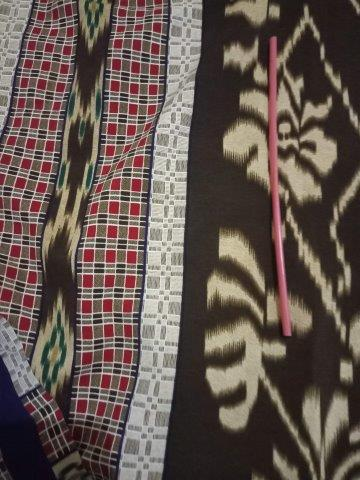sedotan: (268, 36, 291, 336)
